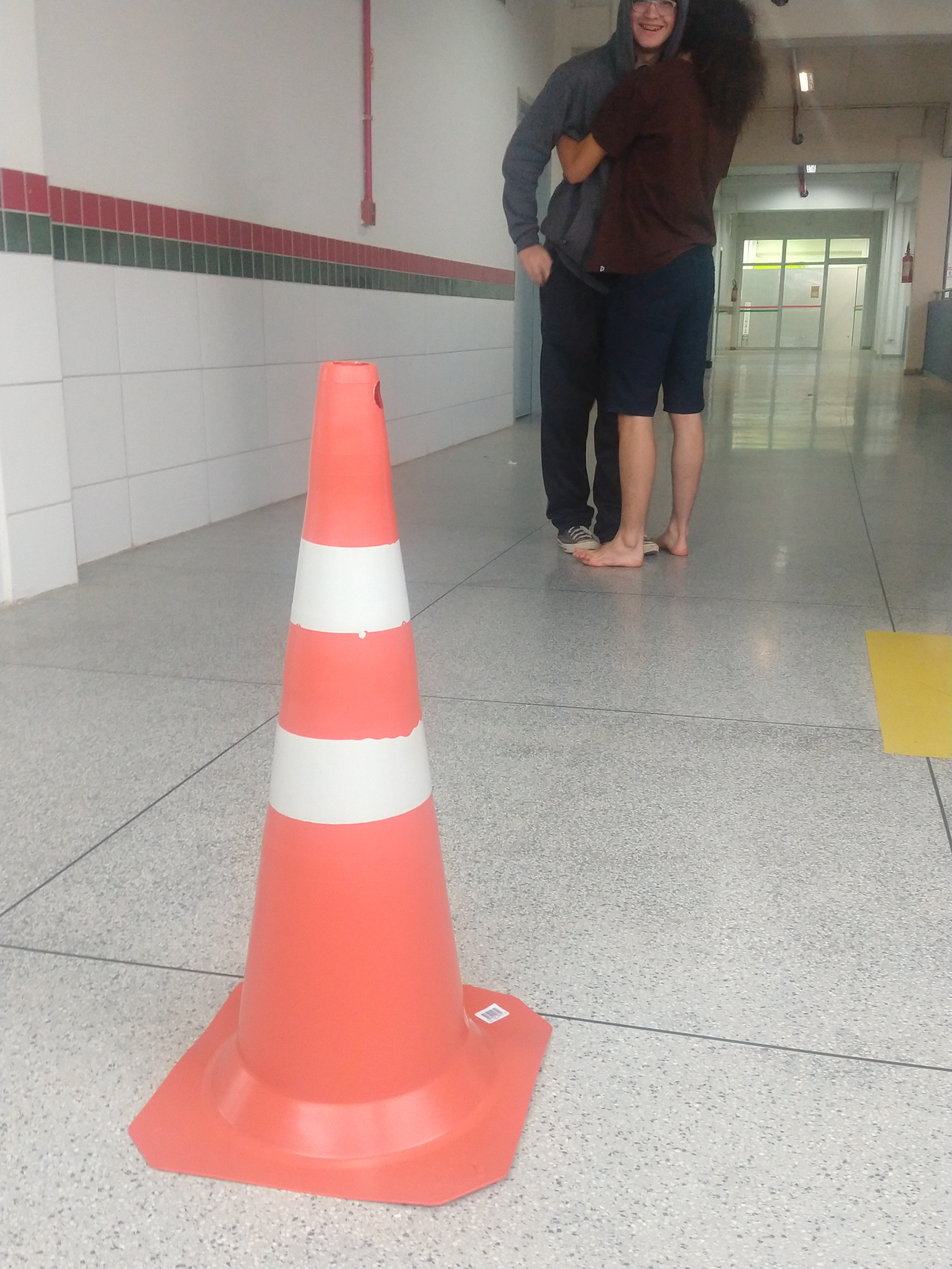traffic_cone: (270, 530, 906, 1099)
